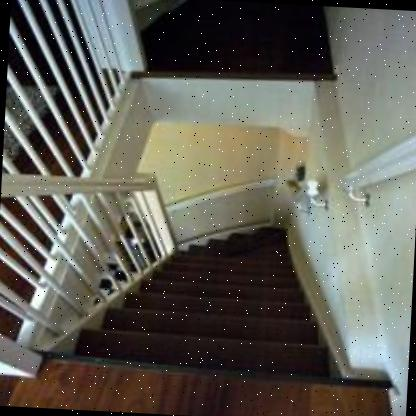stair: (92, 219, 342, 400)
